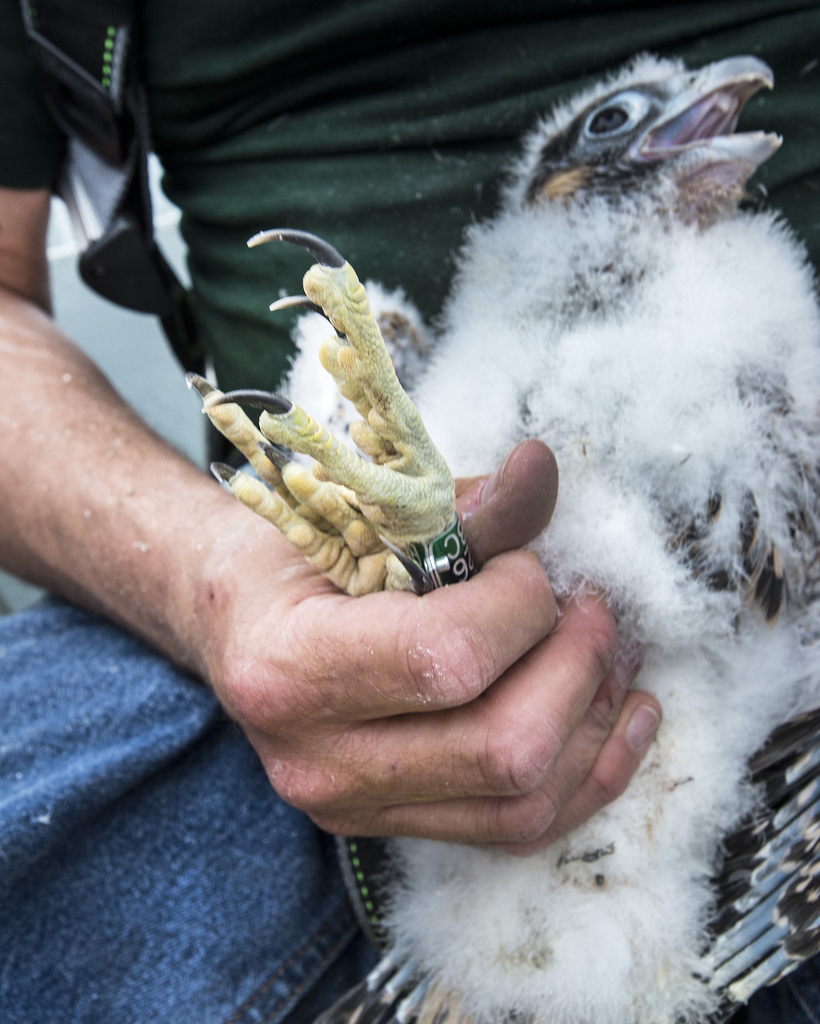Human_hand: (171, 435, 664, 865)
